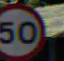Speed limit: (1, 3, 47, 60)
